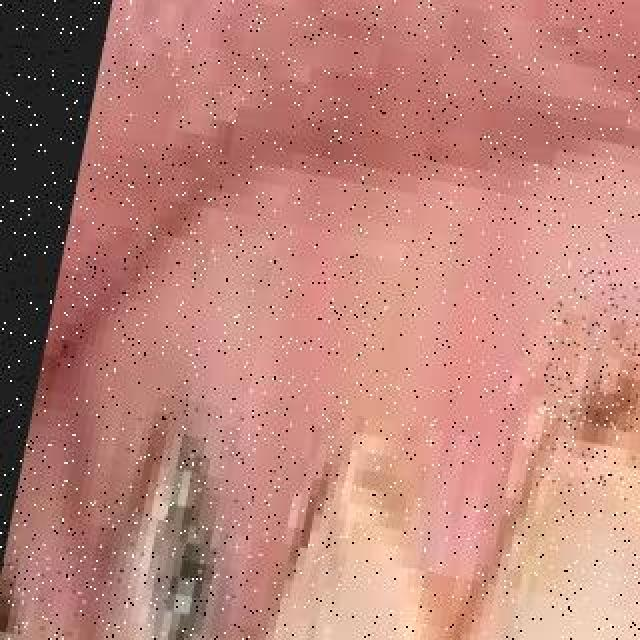cavities: (504, 326, 640, 592), (290, 440, 452, 640), (118, 414, 250, 640)
